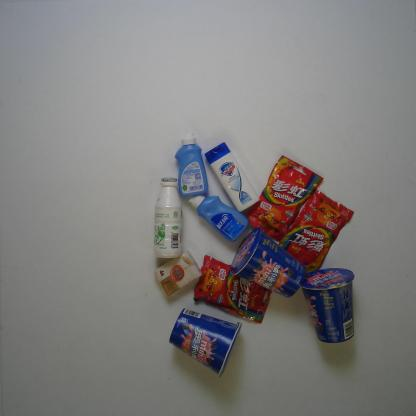Candy: (246, 154, 325, 242), (279, 190, 356, 274), (192, 254, 273, 325)
Dessert: (229, 226, 307, 299), (168, 308, 244, 378), (299, 267, 358, 344)
Milk: (152, 176, 183, 260)
Personal Hygiene: (204, 141, 261, 212), (187, 195, 250, 243), (173, 132, 209, 197)
Tissue: (152, 249, 202, 297)
